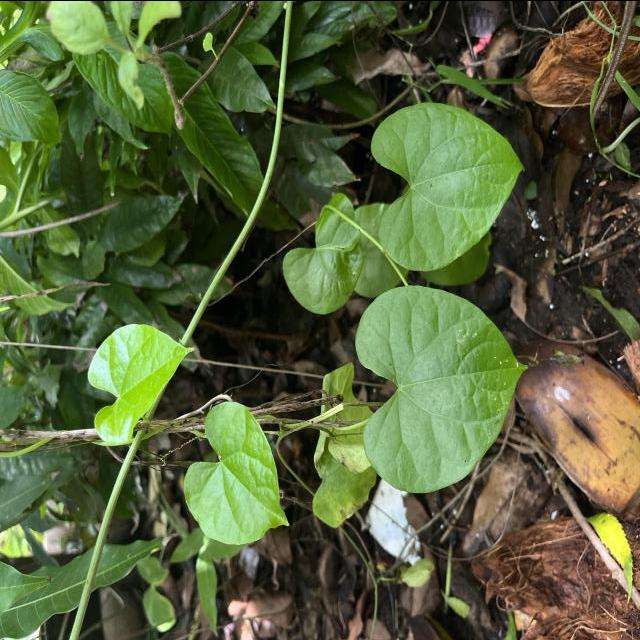Tinospora cordifolia: (353, 282, 531, 494), (368, 99, 526, 274), (181, 398, 293, 546), (85, 321, 198, 445)
